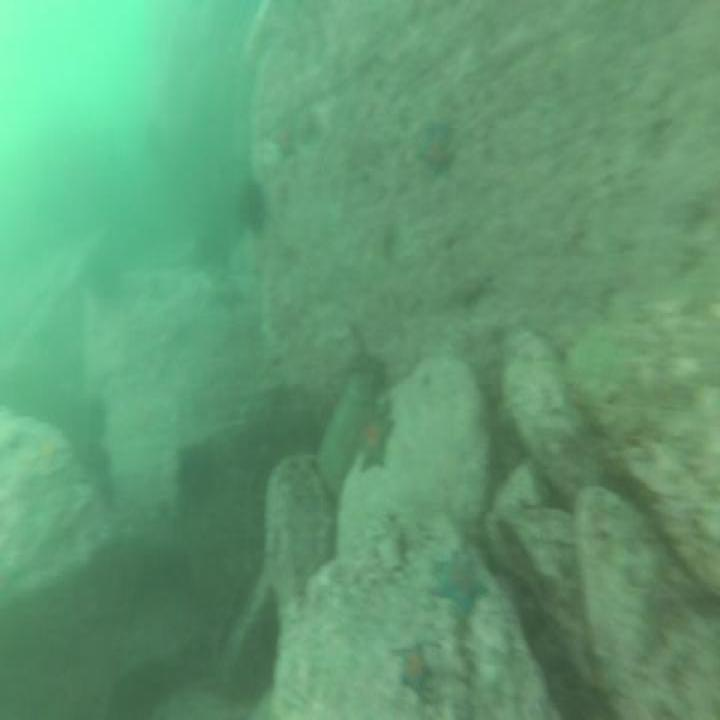echinus: (171, 441, 220, 517), (85, 249, 126, 306), (236, 176, 270, 238), (80, 388, 113, 446), (192, 228, 230, 274)
starfish: (428, 549, 493, 624), (415, 110, 458, 183), (392, 636, 436, 704), (352, 409, 396, 476), (25, 427, 72, 473), (265, 115, 300, 166)
